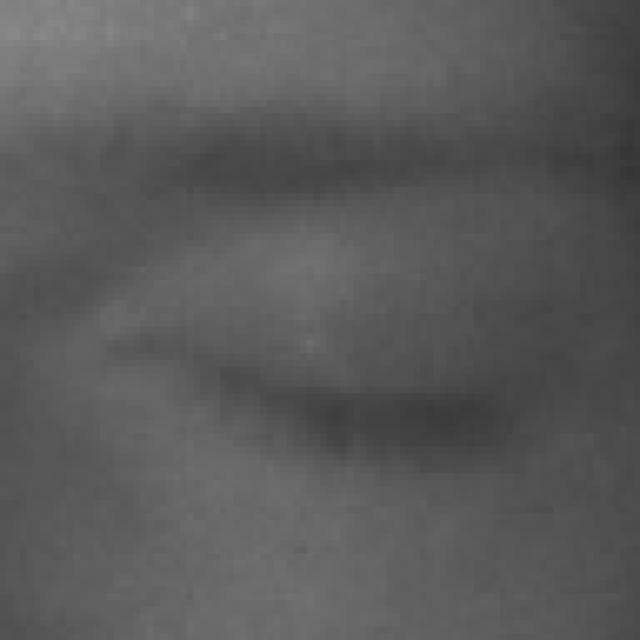Eyeclosed: (92, 241, 508, 572)
